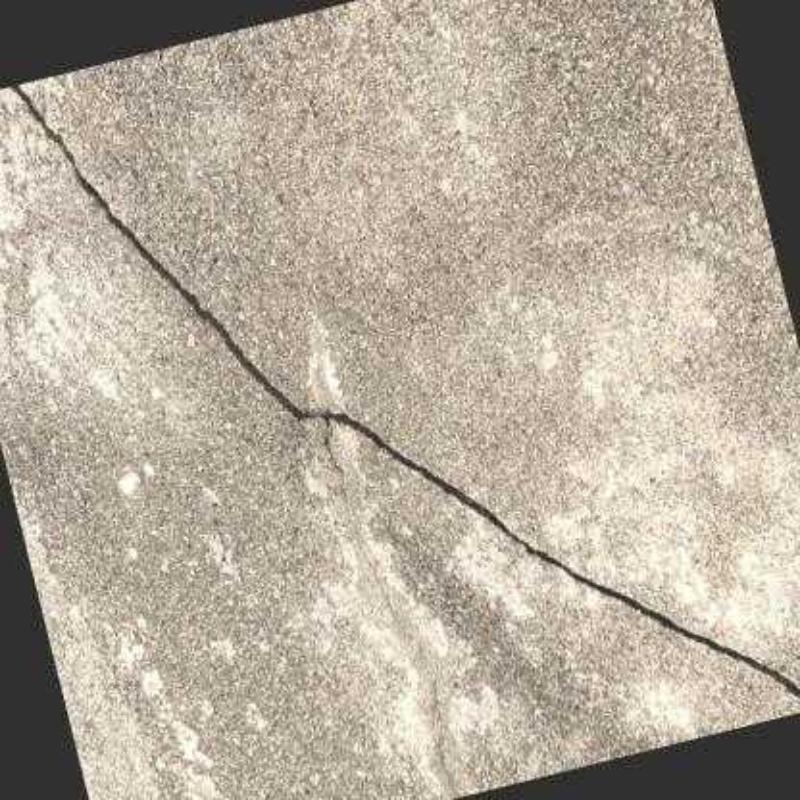crack: (4, 83, 800, 702)
